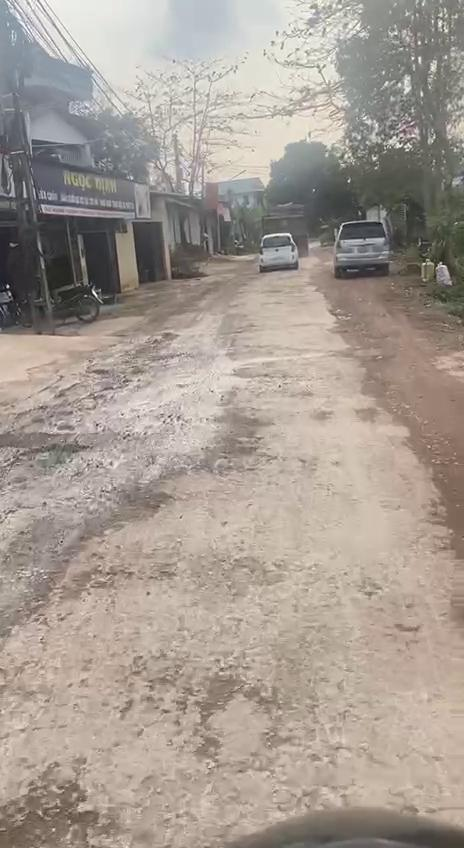pothole: (0, 762, 123, 848), (198, 673, 276, 773), (79, 486, 172, 539)
